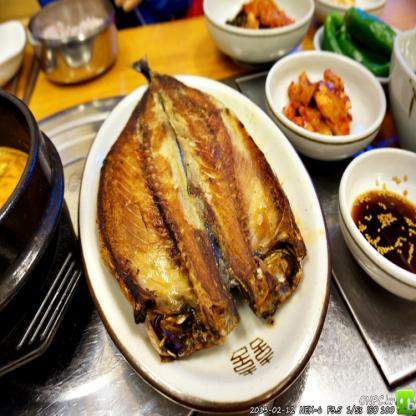Peixe: (97, 48, 299, 344)
